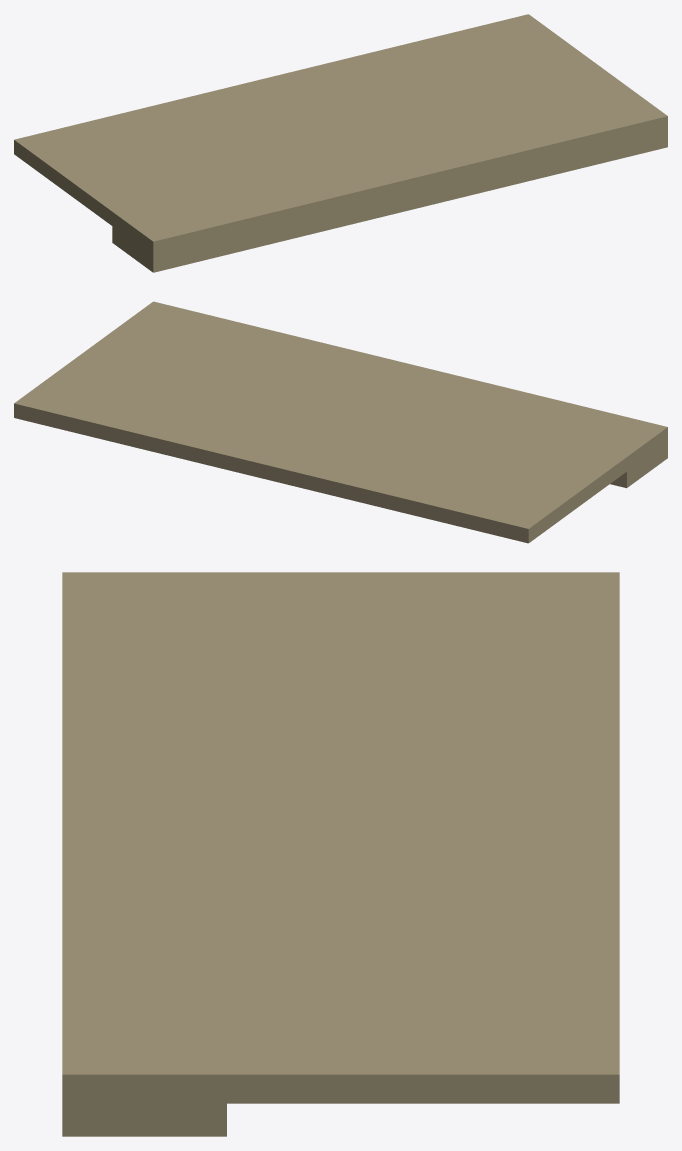
Rendered from LightWall.glb.
The picture shows the model from 3 angles, top to bottom: view 1: azimuth 30°, elevation 25°; view 2: azimuth 150°, elevation 25°; view 3: azimuth 270°, elevation 25°; orthographic projection. The views are drawn at different scales.
Parts seen in each view (by area): view 1: LightWall; view 2: LightWall; view 3: LightWall.
Boxes of the visible parts, x1,y1,x2,y2 form: LightWall: (14, 14, 667, 272); LightWall: (14, 301, 667, 543); LightWall: (62, 572, 619, 1136).
Bounding box in the file's own units: 1 × 0.0578 × 0.469.
Materials: 1 (1 with a texture image).
